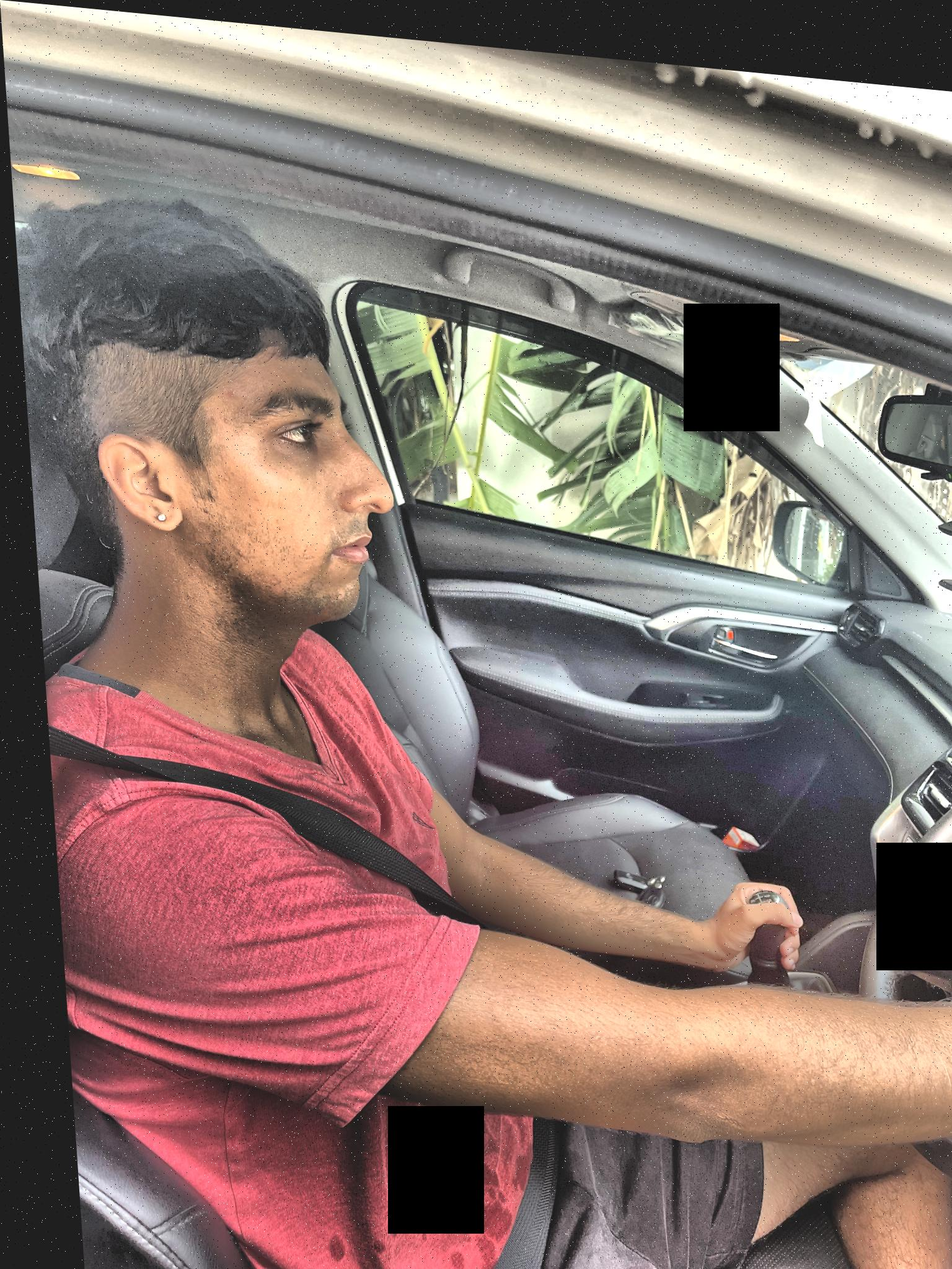seatbelt: (33, 633, 485, 943)
